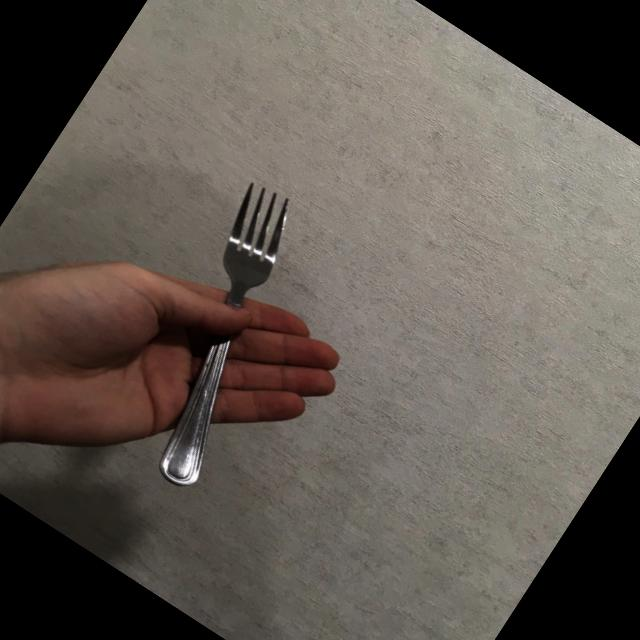fork: (87, 172, 356, 494)
